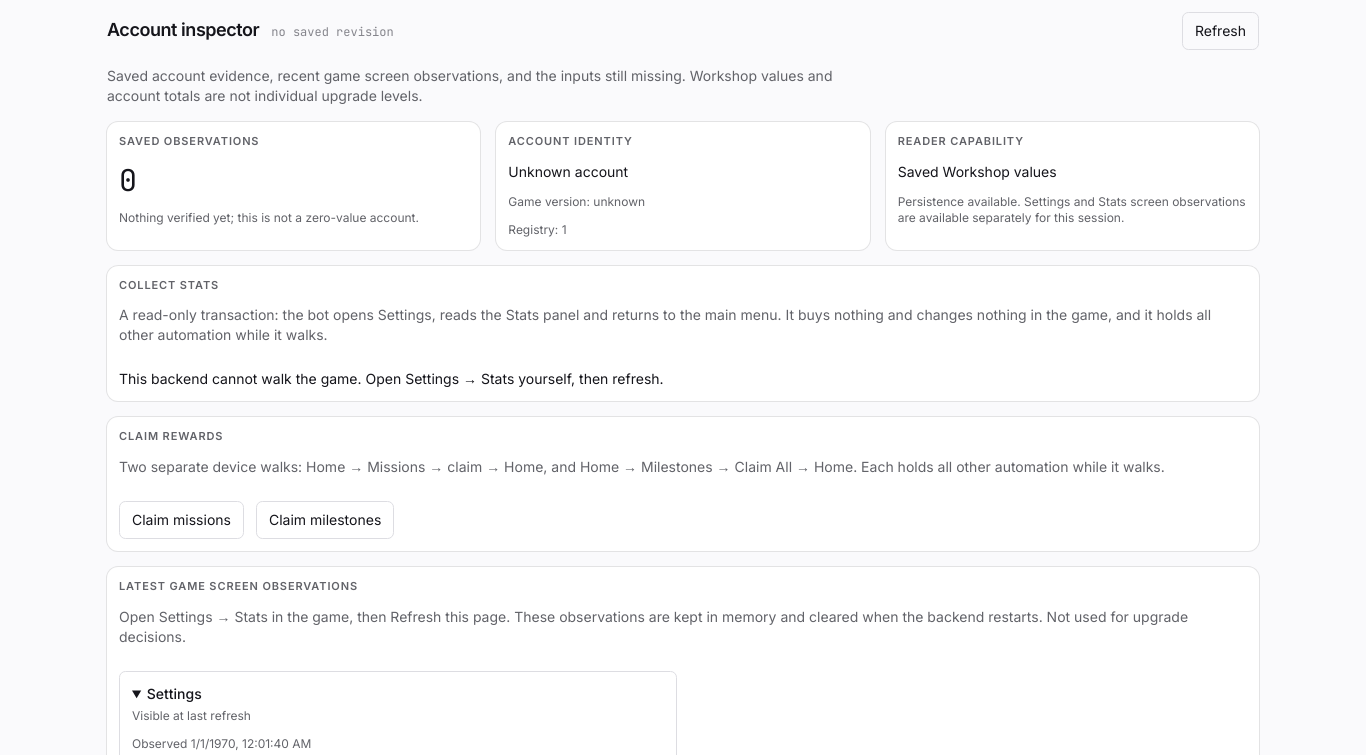
Test: Account inspector › renders screen observations separately and retains them after failed refresh
expect the text "no saved revision" is shown: met, box x1=271 y1=24 x2=394 y2=40
expect the text "Unknown account" is shown: met, box x1=508 y1=163 x2=628 y2=180
Click the button "Refresh" at [1220, 31], box x1=1182 y1=12 x2=1259 y2=50
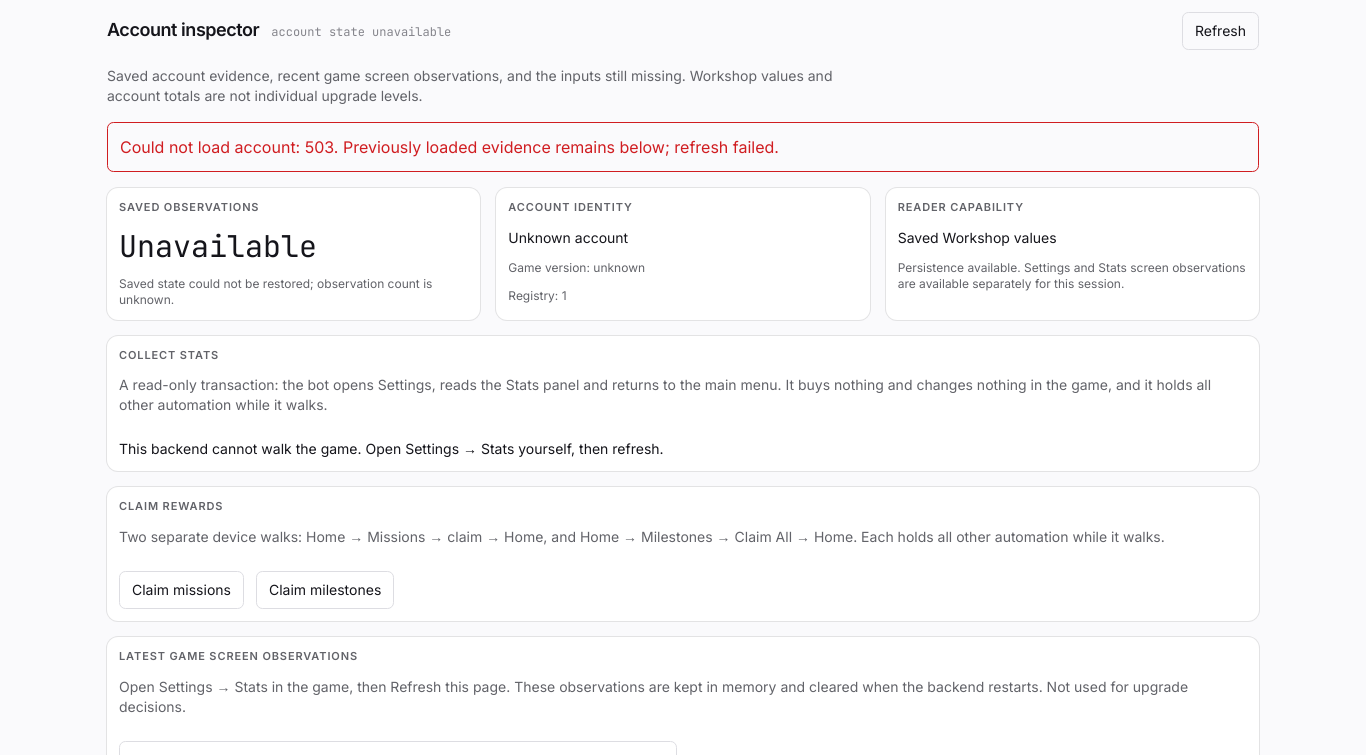
expect the text "Could not load account: 503" is shown: met, box x1=107 y1=122 x2=1259 y2=172
